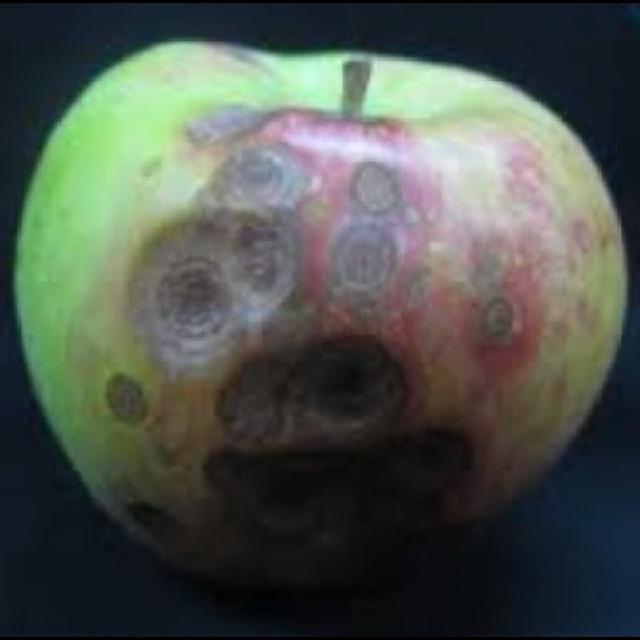Rotten Apple: (12, 36, 628, 564)
